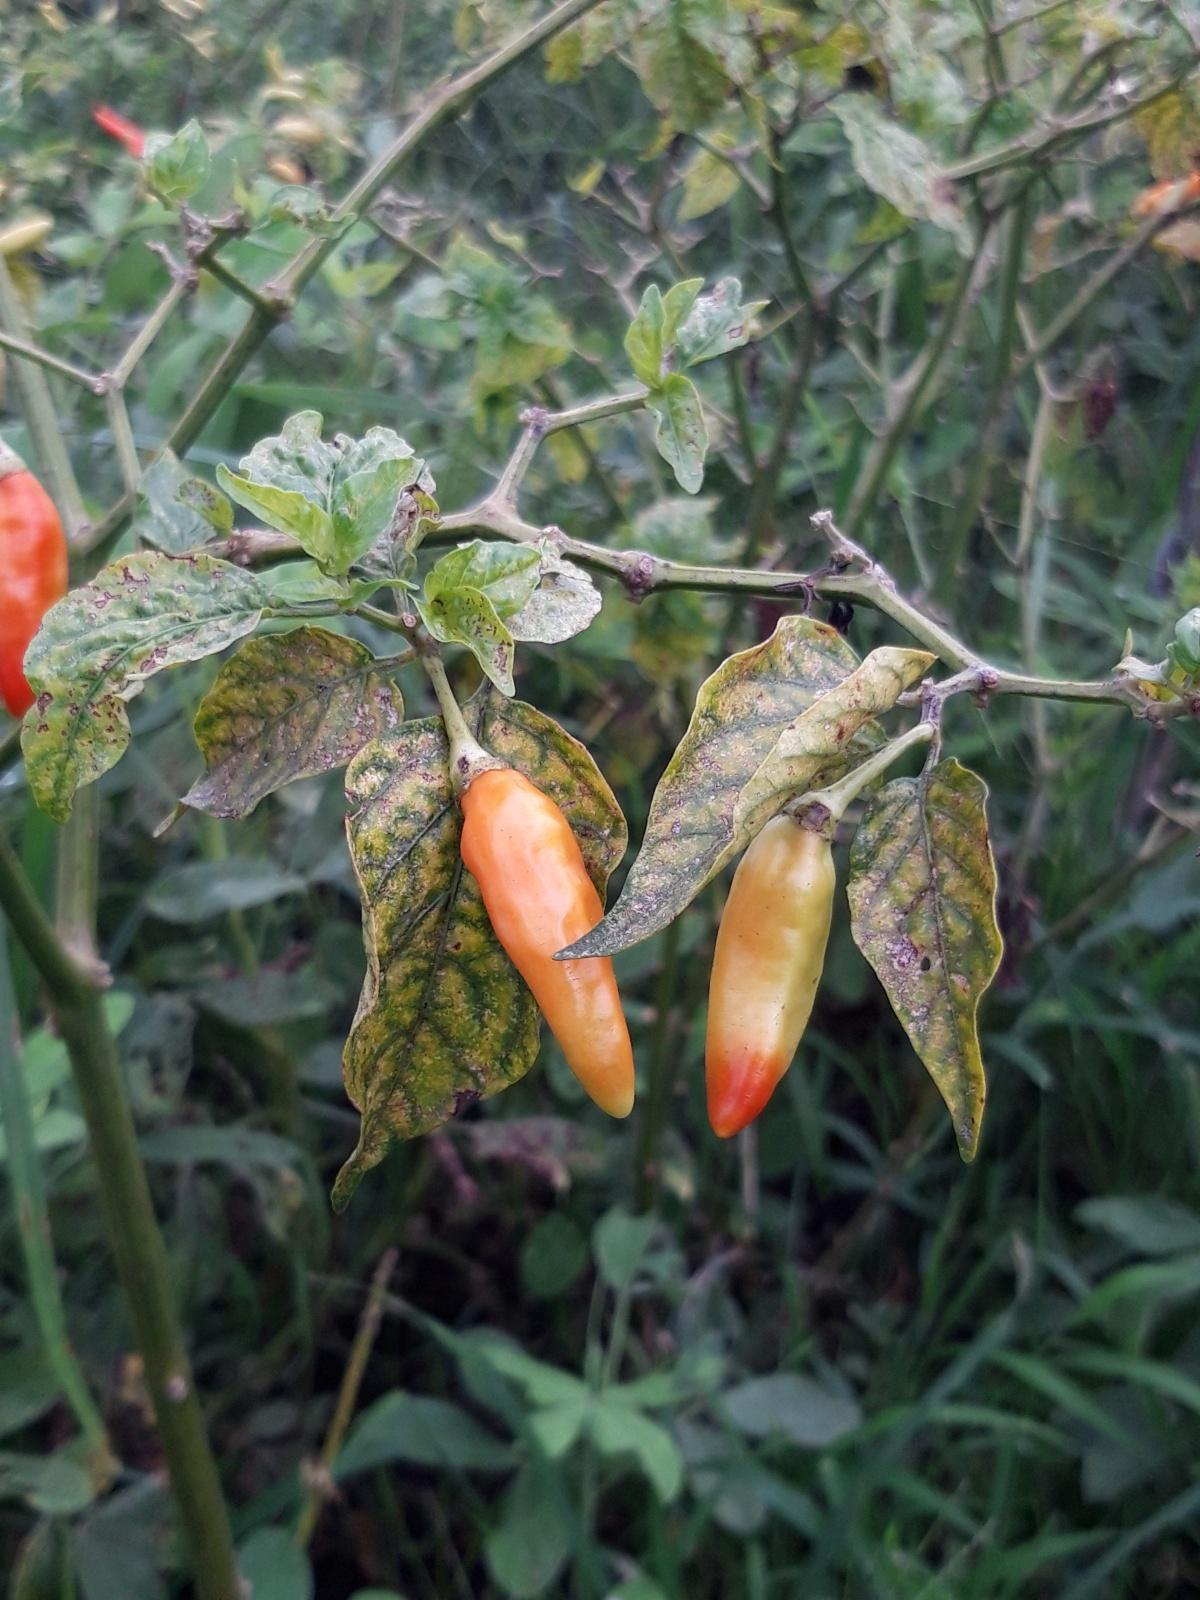cabai_normal: (454, 769, 640, 1120), (703, 821, 832, 1144), (0, 461, 68, 722)
